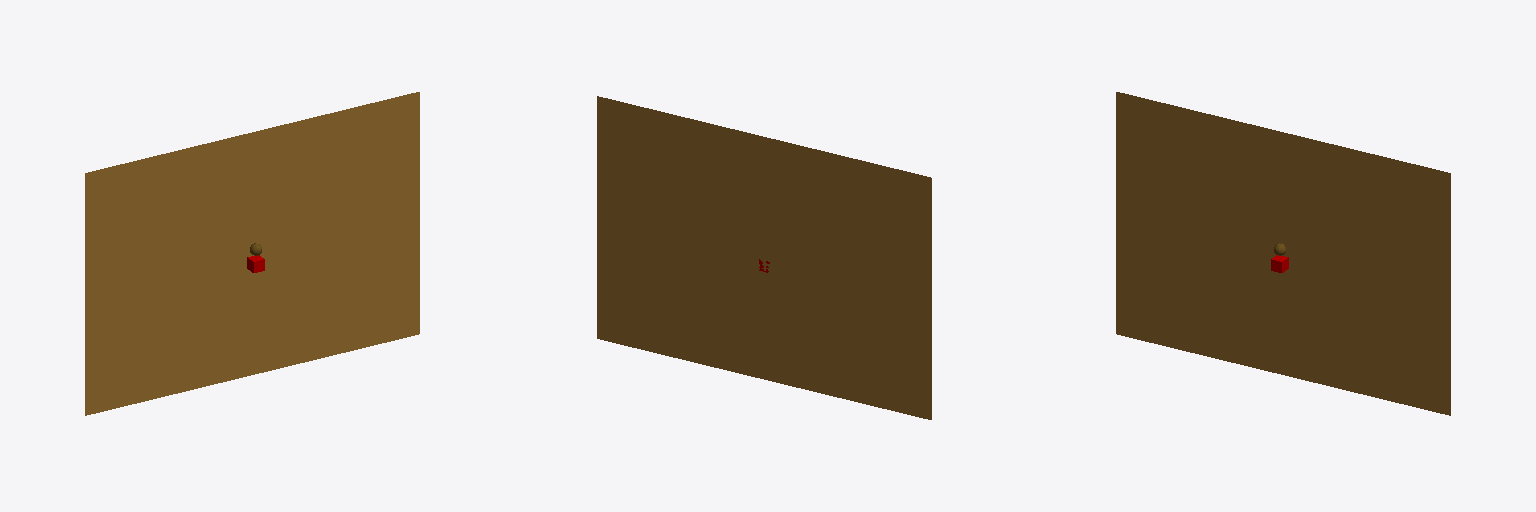
The model's file is cajaEsfera4.obj.
3 renders of one model, left to right at view 1: azimuth 30°, elevation 25°; view 2: azimuth 150°, elevation 25°; view 3: azimuth 330°, elevation 25°, orthographic.
Parts seen in each view (by area): view 1: Plane01; view 2: Plane01; view 3: Plane01.
Part boxes in pixels (bbox=[...]): Plane01: bbox=[85, 92, 419, 415]; Plane01: bbox=[597, 96, 931, 419]; Plane01: bbox=[1116, 92, 1450, 415].
Bounding box in the file's own units: 3039 × 2104 × 100.